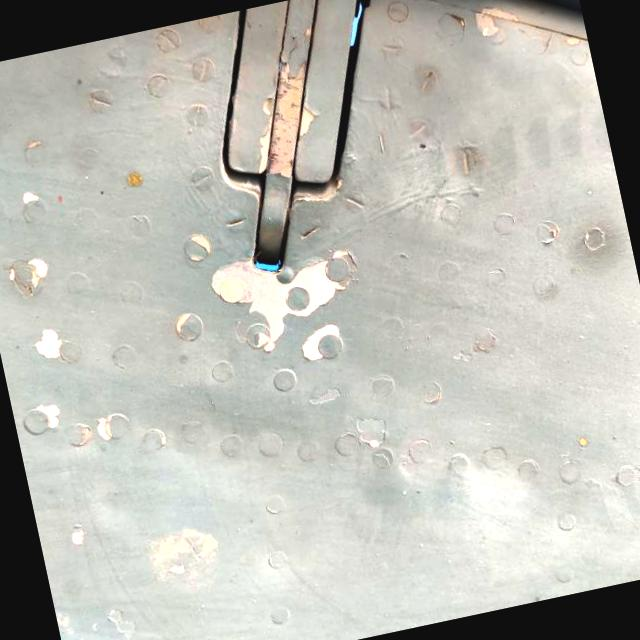paint-off: (267, 245, 445, 416)
